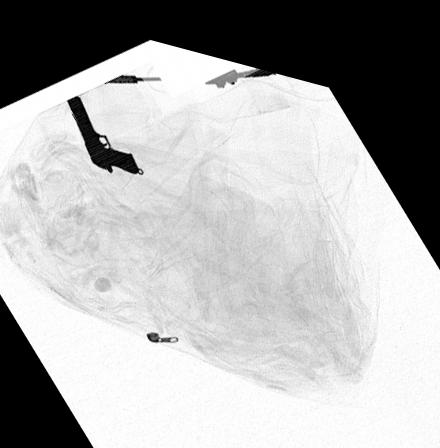Gun: (64, 90, 140, 167)
